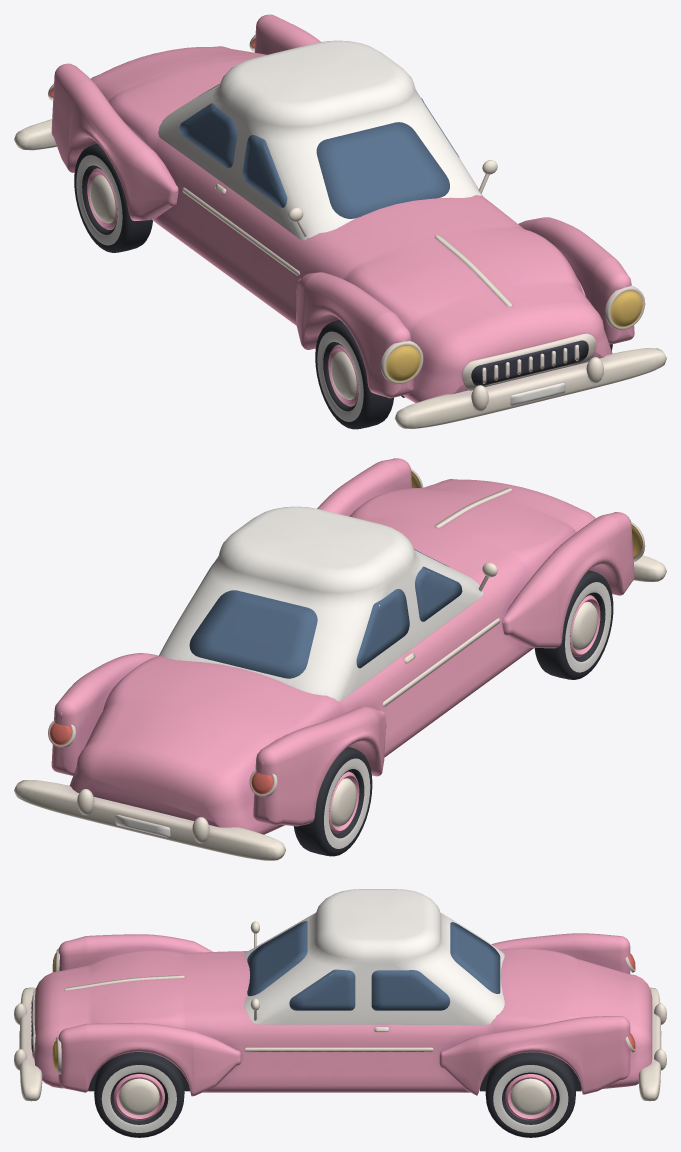
Rendered from classic-car.glb.
3 renders of one model, top to bottom at view 1: azimuth 30°, elevation 25°; view 2: azimuth 150°, elevation 25°; view 3: azimuth 270°, elevation 25°, orthographic. The views are drawn at different scales.
Visible parts, largest first — view 1: classic-car_body, classic-car_windows, classic-car_wheel_fr, classic-car_wheel_rr; view 2: classic-car_body, classic-car_windows, classic-car_wheel_rr, classic-car_wheel_fr; view 3: classic-car_body, classic-car_windows, classic-car_wheel_fl, classic-car_wheel_rl.
Boxes of the visible parts, x1,y1,x2,y2 form: classic-car_body: [14, 14, 666, 428]; classic-car_windows: [179, 84, 459, 218]; classic-car_wheel_fr: [315, 319, 393, 429]; classic-car_wheel_rr: [74, 143, 152, 252]; classic-car_body: [14, 458, 666, 860]; classic-car_windows: [189, 549, 462, 678]; classic-car_wheel_rr: [293, 747, 372, 856]; classic-car_wheel_fr: [534, 570, 613, 679]; classic-car_body: [14, 889, 666, 1101]; classic-car_windows: [247, 921, 500, 1010]; classic-car_wheel_fl: [94, 1052, 184, 1137]; classic-car_wheel_rl: [485, 1052, 575, 1137].
Bounding box in the file's own units: 1.86 × 1.44 × 4.84.
18 materials, 1 textured.
